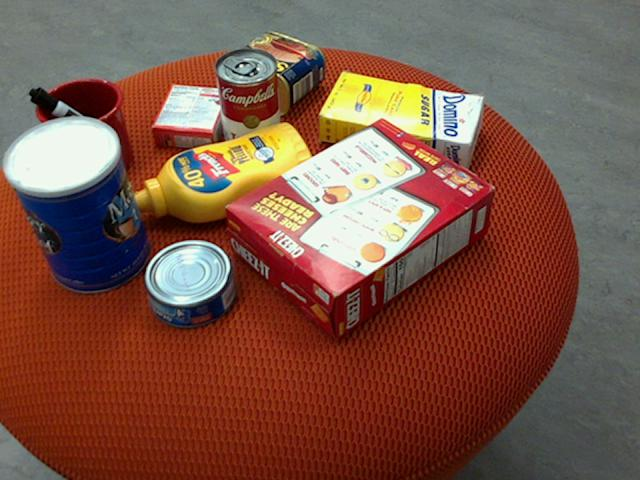cracker_box: (225, 117, 496, 338)
gelatin_box: (150, 83, 232, 149)
large_marker: (28, 87, 129, 158)
master_chef_can: (0, 116, 150, 294)
mug: (25, 78, 132, 181)
mustard_bottle: (128, 122, 317, 222)
potted_meat_can: (220, 32, 326, 115)
sugar_box: (318, 72, 486, 167)
tomato_soup_can: (214, 46, 281, 156)
tuna_fish_can: (143, 240, 237, 329)
